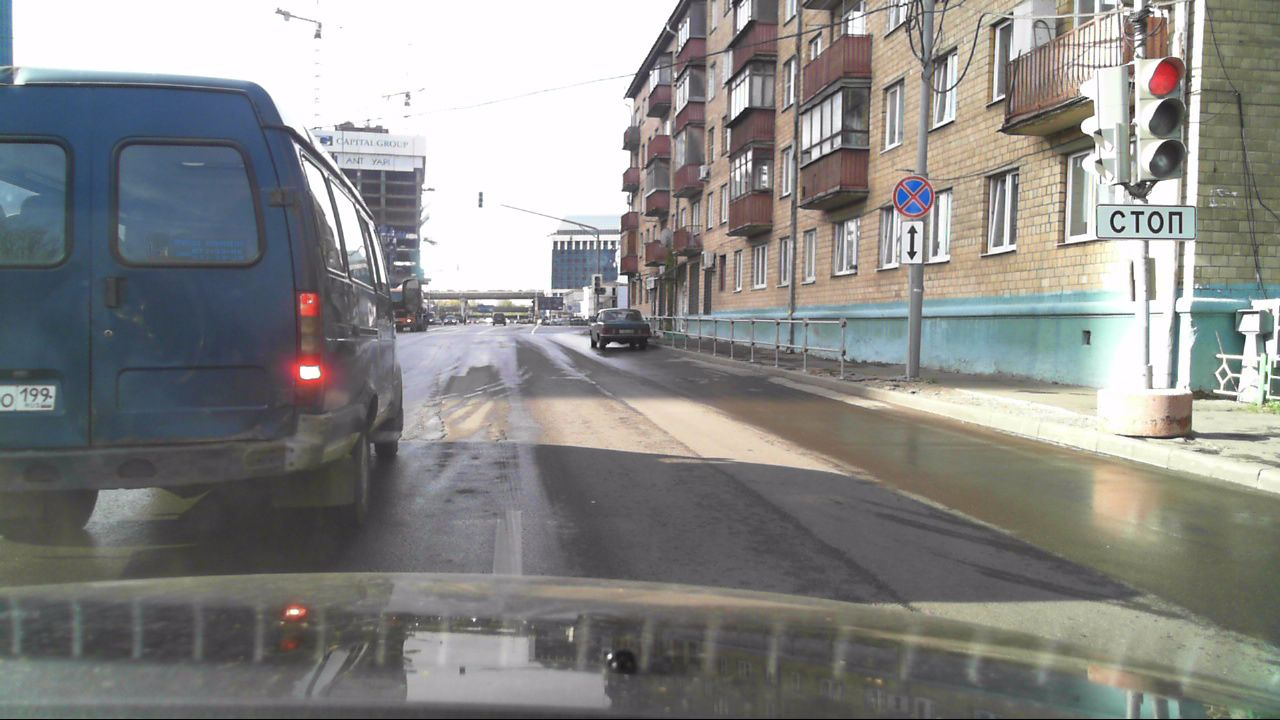No Parking: (892, 174, 934, 218)
